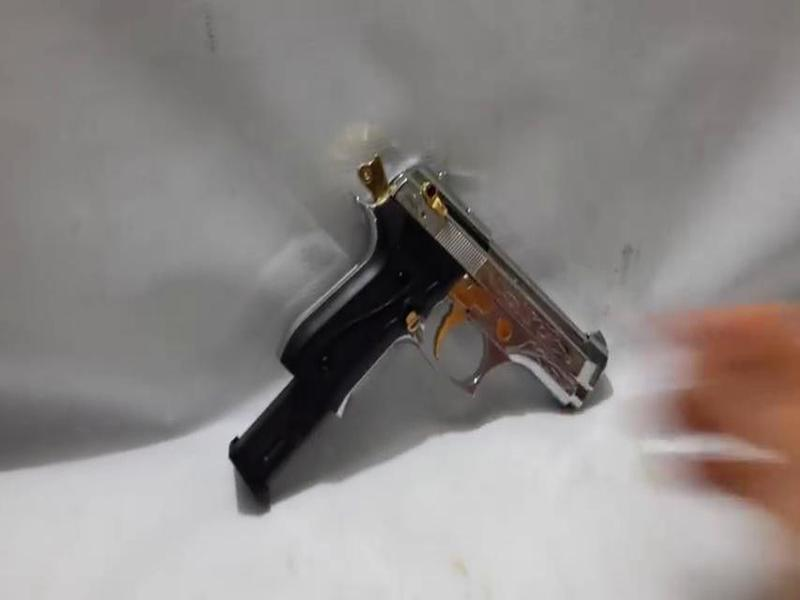Pistola: (279, 125, 625, 434)
